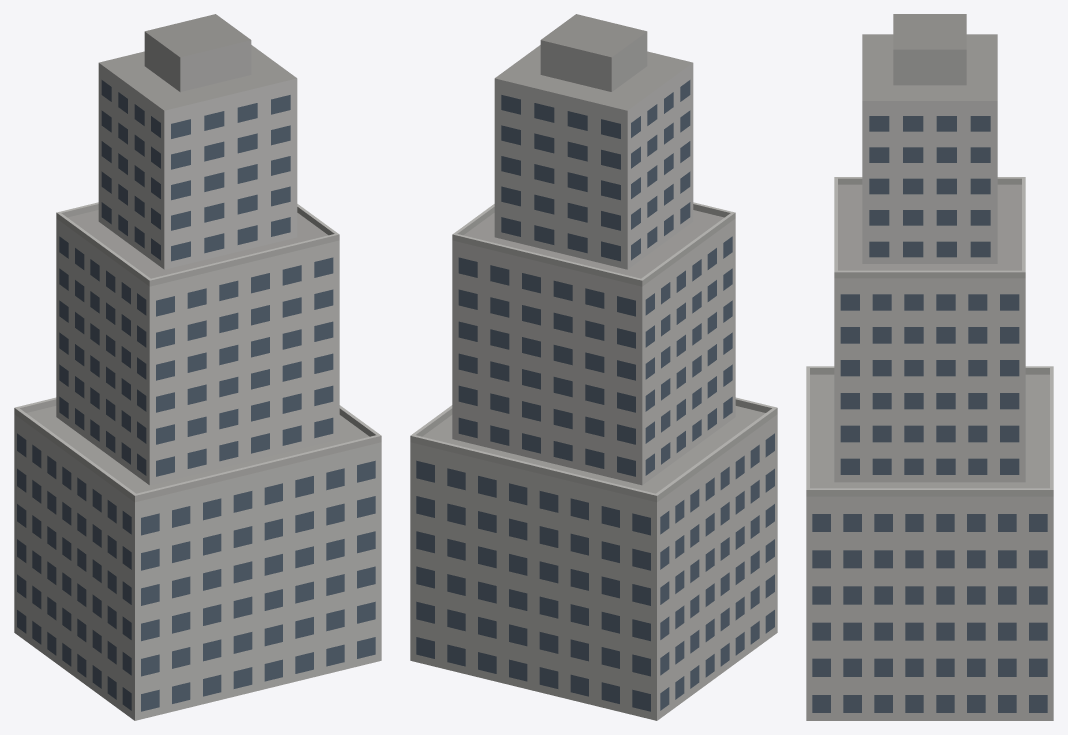
The model's file is highrise_03_setback_tower.glb.
3 renders of one model, left to right at view 1: azimuth 30°, elevation 25°; view 2: azimuth 150°, elevation 25°; view 3: azimuth 270°, elevation 25°, orthographic. The views are drawn at different scales.
Visible parts, largest first — view 1: highrise_03_setback_tower; view 2: highrise_03_setback_tower; view 3: highrise_03_setback_tower.
Boxes of the visible parts, bbox=[...] form: highrise_03_setback_tower: bbox=[14, 14, 381, 720]; highrise_03_setback_tower: bbox=[410, 14, 777, 720]; highrise_03_setback_tower: bbox=[806, 14, 1053, 720].
Size of the model in its own units: 26.03 by 61.5 by 22.03.
